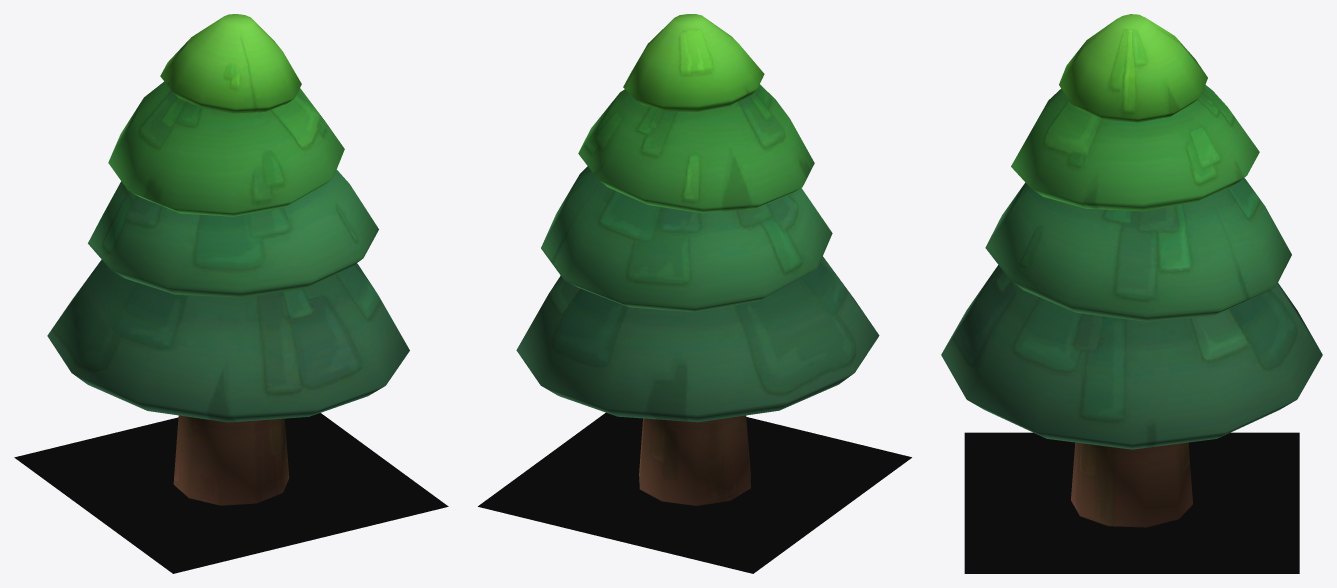
The model's file is tree.obj.
3 renders of one model, left to right at view 1: azimuth 30°, elevation 25°; view 2: azimuth 150°, elevation 25°; view 3: azimuth 270°, elevation 25°, orthographic. The views are drawn at different scales.
Visible parts, largest first — view 1: Tree1_Scene, Shadow__1__Scene.001; view 2: Tree1_Scene, Shadow__1__Scene.001; view 3: Tree1_Scene, Shadow__1__Scene.001.
Boxes of the visible parts, x1=… form: Tree1_Scene: x1=47, y1=14, x2=409, y2=505; Shadow__1__Scene.001: x1=14, y1=413, x2=448, y2=573; Tree1_Scene: x1=516, y1=14, x2=879, y2=505; Shadow__1__Scene.001: x1=478, y1=412, x2=911, y2=573; Tree1_Scene: x1=941, y1=14, x2=1322, y2=527; Shadow__1__Scene.001: x1=964, y1=432, x2=1299, y2=573.
Bounding box in the file's own units: 1.42 × 2 × 1.43.
2 materials, 2 textured.
